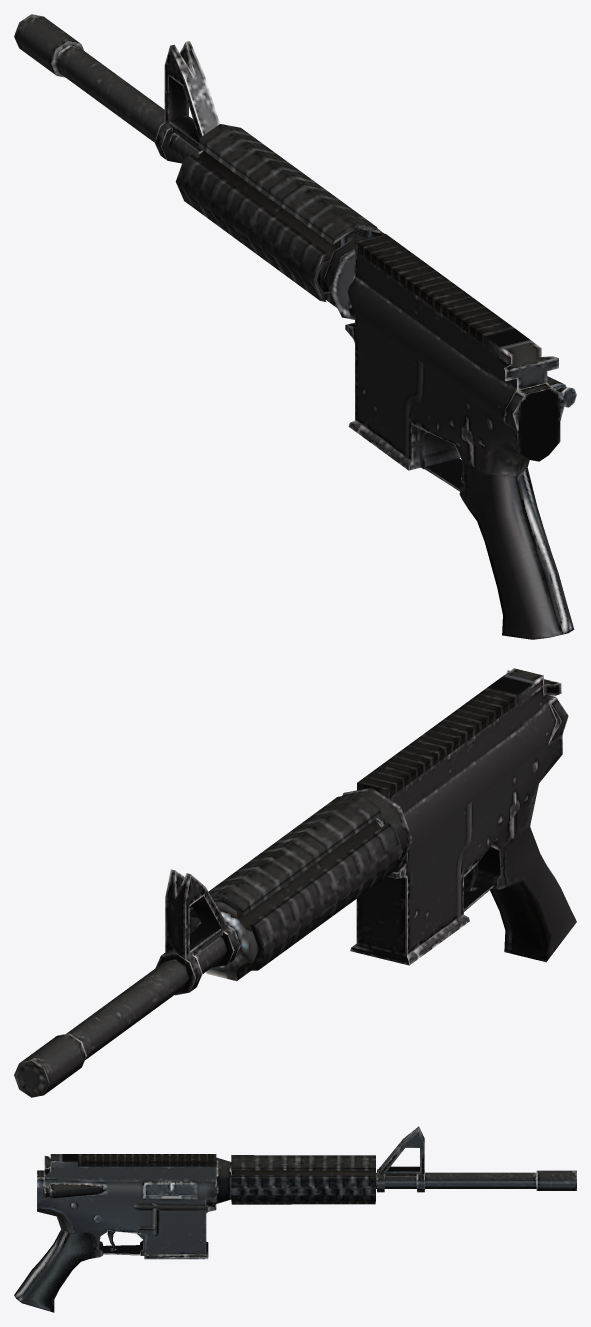
The picture shows the model from 3 angles, top to bottom: view 1: azimuth 30°, elevation 25°; view 2: azimuth 150°, elevation 25°; view 3: azimuth 270°, elevation 25°; orthographic projection. The views are drawn at different scales.
Visible parts, largest first — view 1: M4.002; view 2: M4.002; view 3: M4.002.
Boxes of the visible parts, x1,y1,x2,y2 form: M4.002: (14, 14, 576, 639); M4.002: (14, 668, 576, 1097); M4.002: (14, 1126, 576, 1312).
Size of the model in its own units: 0.0377 by 0.3842 by 0.1345.
